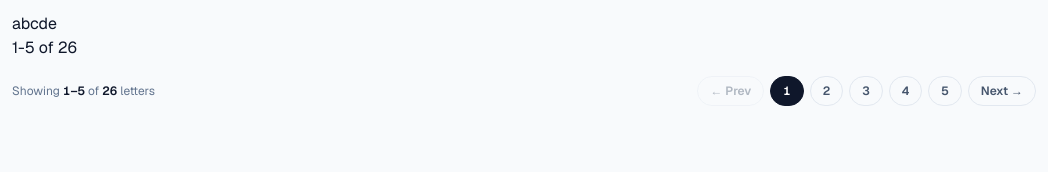
Test case: usePaged and Pager › jumps straight to a numbered page
Step 1. Click the button named "Page 3" → click(866, 91), box [849,76,883,106]
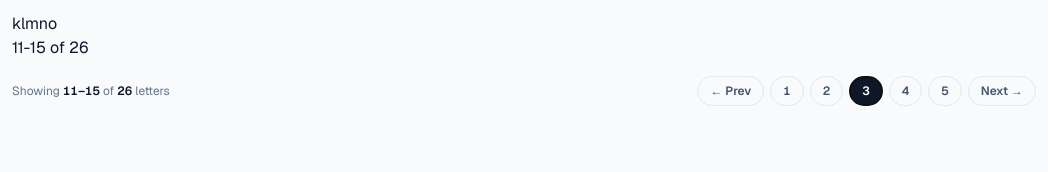
Result: the text with test id "slice" reads "klmno" at [12,13,57,34]
